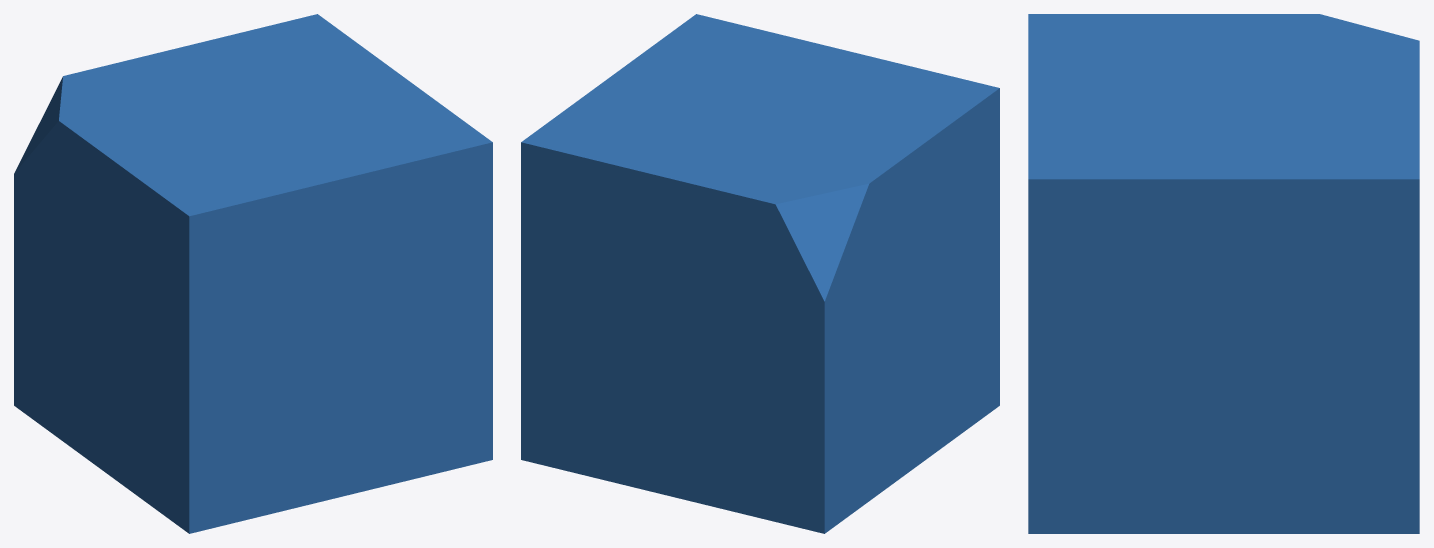
File: SM_Prop_ToyBlock_01.fbx
The picture shows the model from 3 angles, left to right: view 1: azimuth 30°, elevation 25°; view 2: azimuth 150°, elevation 25°; view 3: azimuth 270°, elevation 25°; orthographic projection. The views are drawn at different scales.
Parts seen in each view (by area): view 1: SM_Prop_ToyBlock_01; view 2: SM_Prop_ToyBlock_01; view 3: SM_Prop_ToyBlock_01.
Part boxes in pixels (x1=…): SM_Prop_ToyBlock_01: x1=14, y1=14, x2=492, y2=533; SM_Prop_ToyBlock_01: x1=521, y1=14, x2=999, y2=533; SM_Prop_ToyBlock_01: x1=1028, y1=14, x2=1419, y2=533.
Size of the model in its own units: 17.74 by 17.74 by 17.74.
